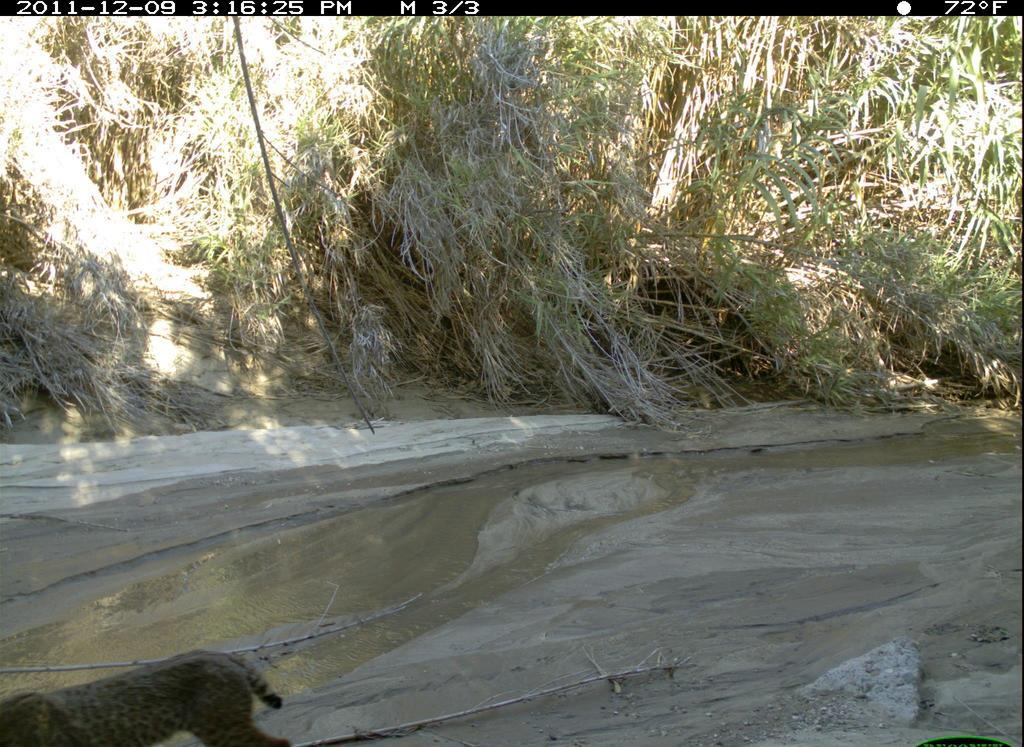bobcat: (3, 641, 305, 747)
